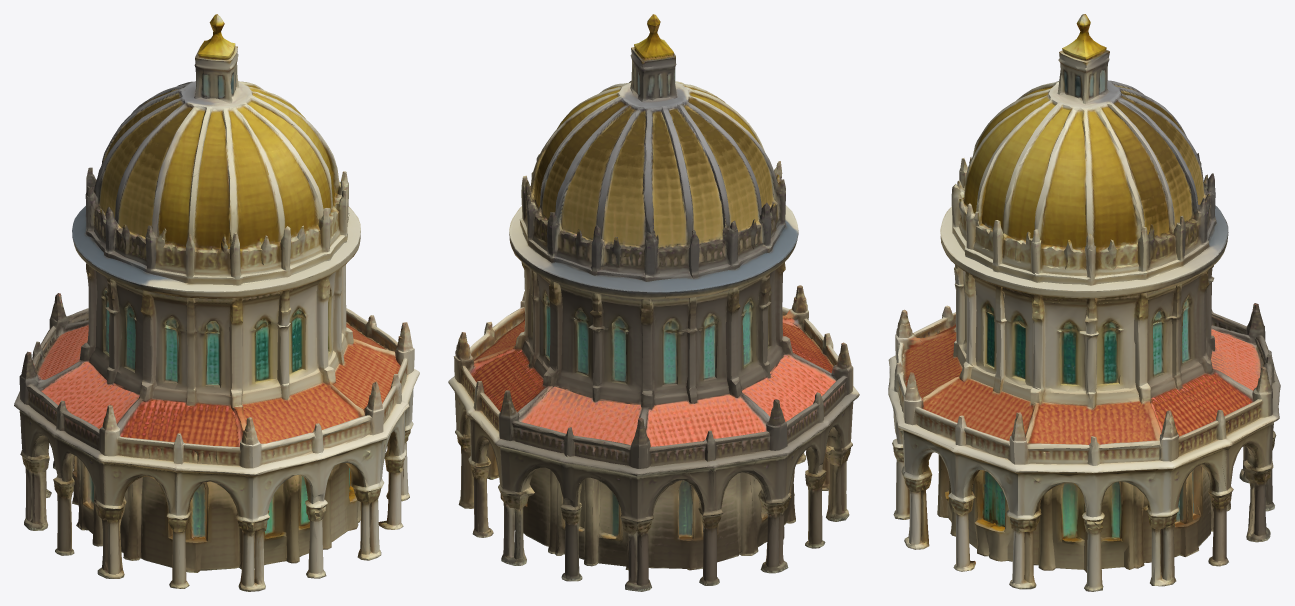
The model's file is lm_bahai_shrine_nb.glb.
3 views of the same model, side by side, from view 1: azimuth 30°, elevation 25°; view 2: azimuth 150°, elevation 25°; view 3: azimuth 270°, elevation 25° (orthographic).
Parts seen in each view (by area): view 1: geometry_0; view 2: geometry_0; view 3: geometry_0.
Boxes of the visible parts, bbox=[...] form: geometry_0: bbox=[14, 14, 419, 591]; geometry_0: bbox=[448, 14, 859, 591]; geometry_0: bbox=[888, 14, 1280, 591].
Bounding box in the file's own units: 28.47 × 40 × 28.51.
Materials: 1 (1 with a texture image).
